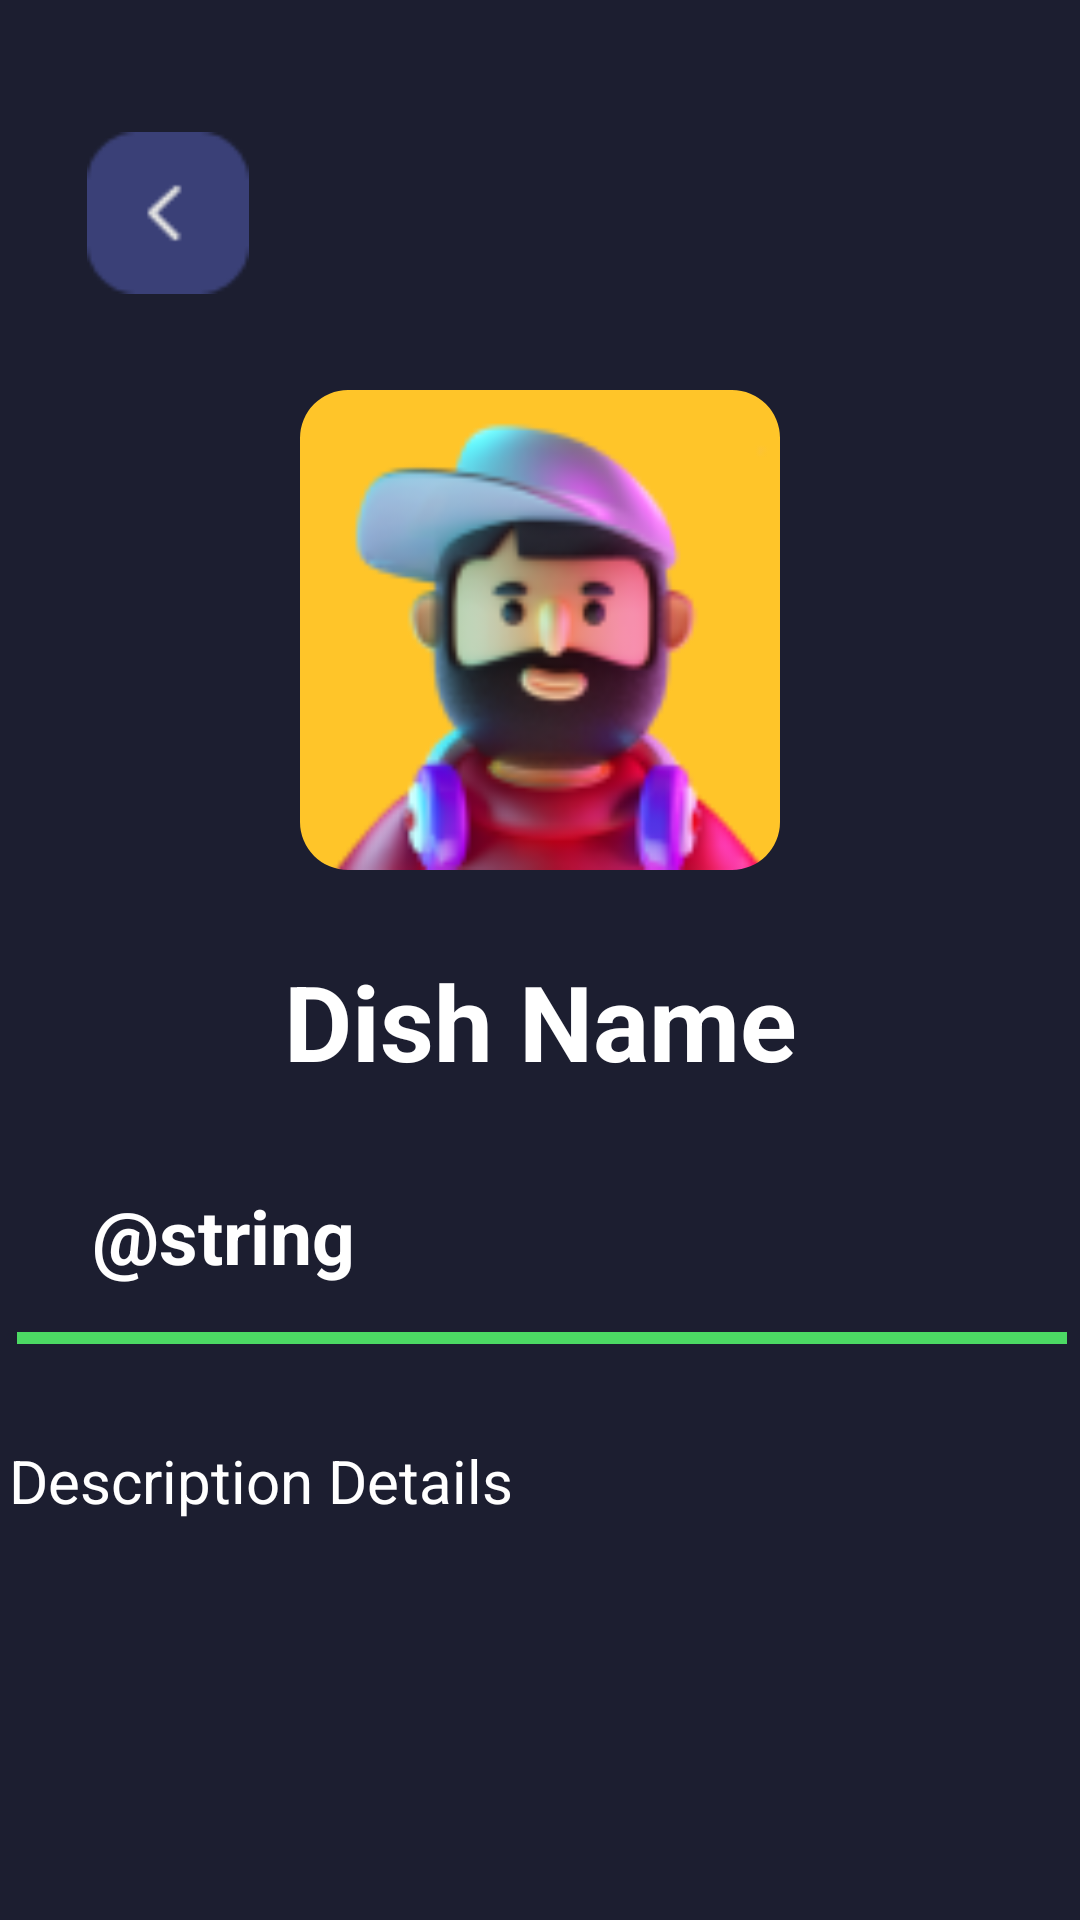

Screen size 1080 × 1920. Icon name, then its center in pixels as point (x, y):
Back Button: point (168, 213)
